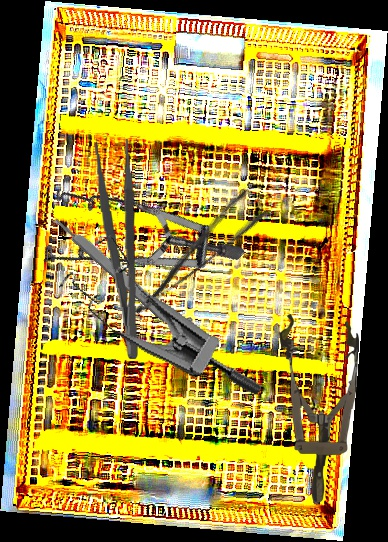Dressing Forceps: (115, 185, 271, 319), (92, 138, 144, 361)
Scalpel Handle: (52, 212, 214, 360)
Speculum: (15, 130, 247, 358), (45, 224, 292, 399), (276, 313, 360, 504)
